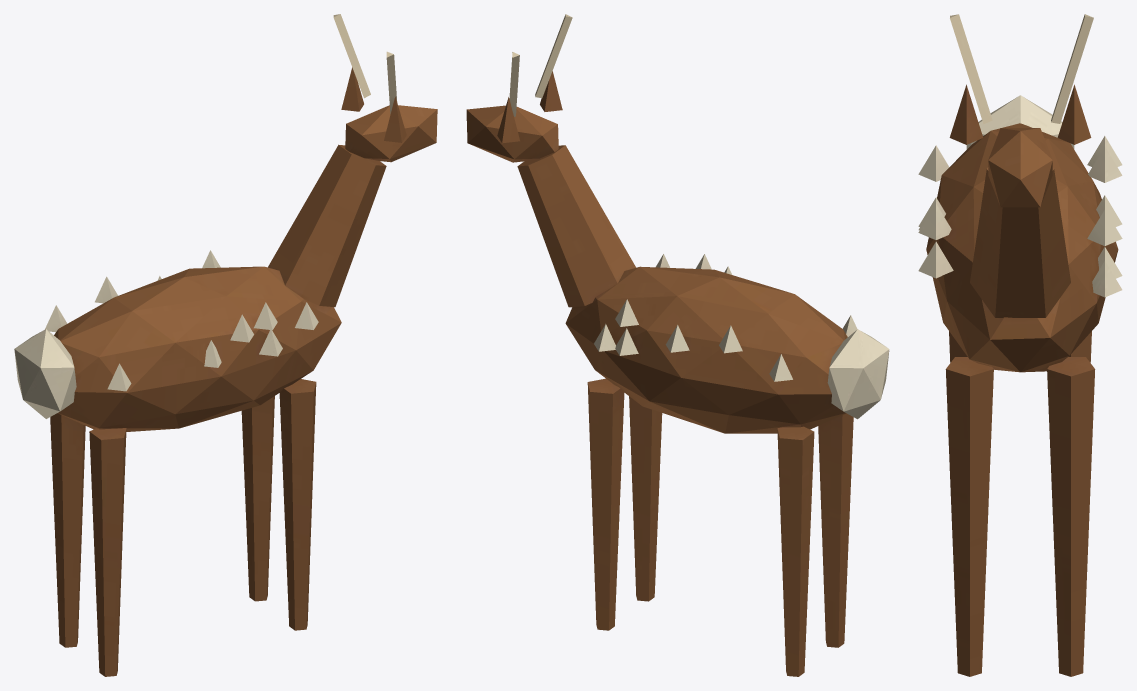
The model's file is hjort_tex.glb.
The picture shows the model from 3 angles, left to right: view 1: azimuth 30°, elevation 25°; view 2: azimuth 150°, elevation 25°; view 3: azimuth 270°, elevation 25°; orthographic projection. The views are drawn at different scales.
Visible parts, largest first — view 1: hjort; view 2: hjort; view 3: hjort.
Boxes of the visible parts, x1=… form: hjort: x1=14, y1=14, x2=437, y2=676; hjort: x1=466, y1=14, x2=889, y2=676; hjort: x1=918, y1=14, x2=1122, y2=676.
Size of the model in its own units: 1.44 by 1.86 by 0.484.
Materials: 3 (3 with a texture image).
